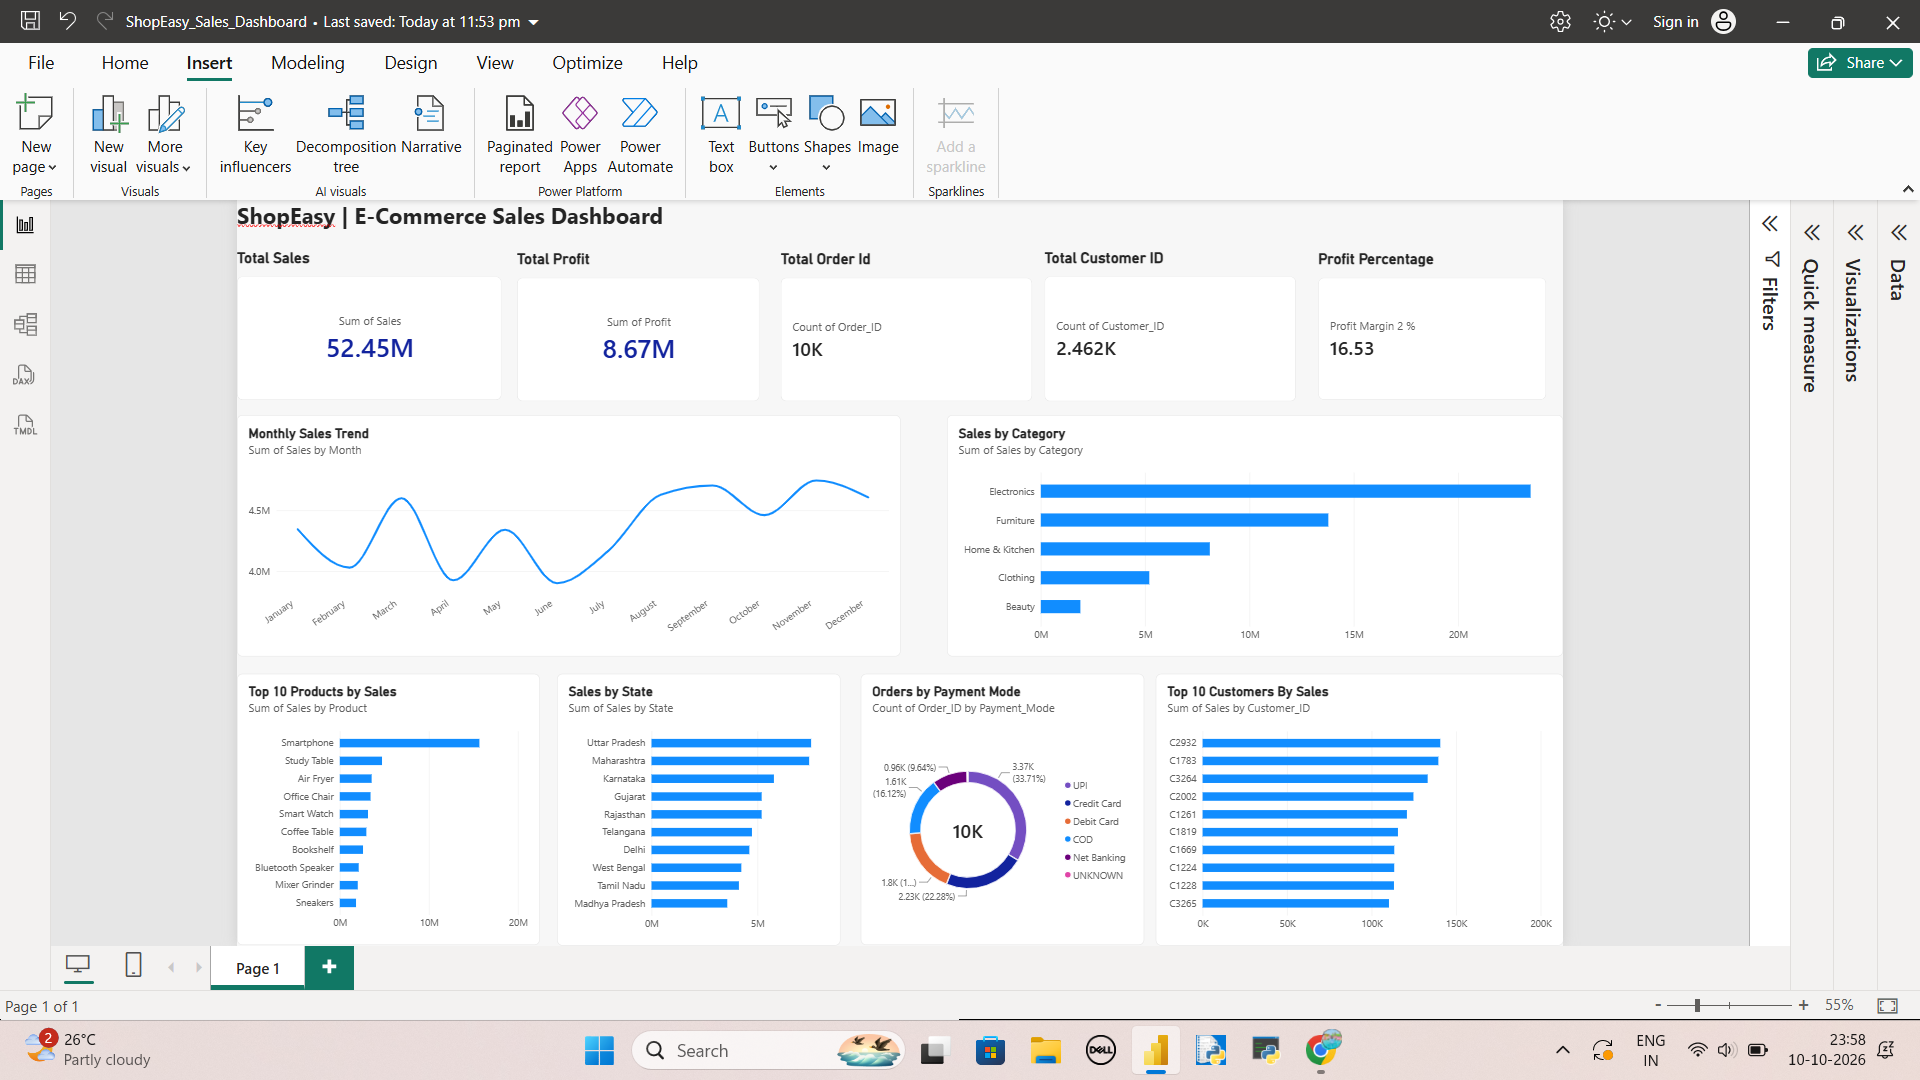

The dashboard page shown, as its layout file describes it:
{"tool":"powerbi","page":{"name":"Page 1","canvas":[1920,1080],"ordinal":0},"visuals":[{"type":"cardVisual","title":"Total Sales","fields":{"Data":["Sum(ecommerce_sales_cleaned.Sales)","Sum(ecommerce_sales_cleaned.Sales)"]},"box":[0,71.2,383.2,219.8],"z":0},{"type":"cardVisual","title":"Total Profit","fields":{"Data":["Sum(ecommerce_sales_cleaned.Profit)"]},"box":[406.2,73.3,351.8,219.8],"z":1},{"type":"cardVisual","title":"Total Order Id","fields":{"Data":["Count(ecommerce_sales_cleaned.Order_ID)"]},"box":[787.3,73.3,364.3,219.8],"z":2},{"type":"cardVisual","title":"Total Customer ID","fields":{"Data":["Count(ecommerce_sales_cleaned.Customer_ID)"]},"box":[1168.3,71.2,364.3,221.9],"z":3},{"type":"cardVisual","title":"Profit Percentage","fields":{"Data":["ecommerce_sales_cleaned.Profit Margin 2 %"]},"box":[1566.2,73.3,330.8,217.8],"z":4},{"type":"lineChart","title":"Monthly Sales Trend","fields":{"Category":["ecommerce_sales_cleaned.Order_Date.Variation.Date Hierarchy.Month"],"Y":["Sum(ecommerce_sales_cleaned.Sales)"]},"box":[0,312,961,349.7],"z":5},{"type":"clusteredBarChart","title":"Sales by Category","fields":{"Category":["ecommerce_sales_cleaned.Category"],"Y":["Sum(ecommerce_sales_cleaned.Sales)"]},"box":[1028,312,892,349.7],"z":6},{"type":"clusteredBarChart","title":"Top 10 Products by Sales","fields":{"Category":["ecommerce_sales_cleaned.Product"],"Y":["Sum(ecommerce_sales_cleaned.Sales)"]},"box":[0,686.8,438,393],"z":7},{"type":"clusteredBarChart","title":"Sales by State","fields":{"Category":["ecommerce_sales_cleaned.State"],"Y":["Sum(ecommerce_sales_cleaned.Sales)"]},"box":[462.7,686.8,410.4,393.6],"z":8},{"type":"donutChart","title":"Orders by Payment Mode","fields":{"Category":["ecommerce_sales_cleaned.Payment_Mode"],"Y":["Count(ecommerce_sales_cleaned.Order_ID)"]},"box":[902.4,686.8,410,393],"z":9},{"type":"clusteredBarChart","title":"Top 10 Customers By Sales","fields":{"Category":["ecommerce_sales_cleaned.Customer_ID"],"Y":["Sum(ecommerce_sales_cleaned.Sales)"]},"box":[1329.6,686.8,590.4,393.6],"z":10},{"type":"textbox","box":[0,0,1920,96.3],"z":13}]}

Visuals, with their boxes on the page's 1920x1080 design canvas (x1, y1, x2, y2). These are canvas units, not pixel positions in the 1920x1080 screenshot, which may show the page scaled, cropped or inside an application window:
"Total Sales" cardVisual: [0,71,383,291]
"Total Profit" cardVisual: [406,73,758,293]
"Total Order Id" cardVisual: [787,73,1152,293]
"Total Customer ID" cardVisual: [1168,71,1533,293]
"Profit Percentage" cardVisual: [1566,73,1897,291]
"Monthly Sales Trend" lineChart: [0,312,961,662]
"Sales by Category" clusteredBarChart: [1028,312,1920,662]
"Top 10 Products by Sales" clusteredBarChart: [0,687,438,1080]
"Sales by State" clusteredBarChart: [463,687,873,1080]
"Orders by Payment Mode" donutChart: [902,687,1312,1080]
"Top 10 Customers By Sales" clusteredBarChart: [1330,687,1920,1080]
textbox: [0,0,1920,96]
